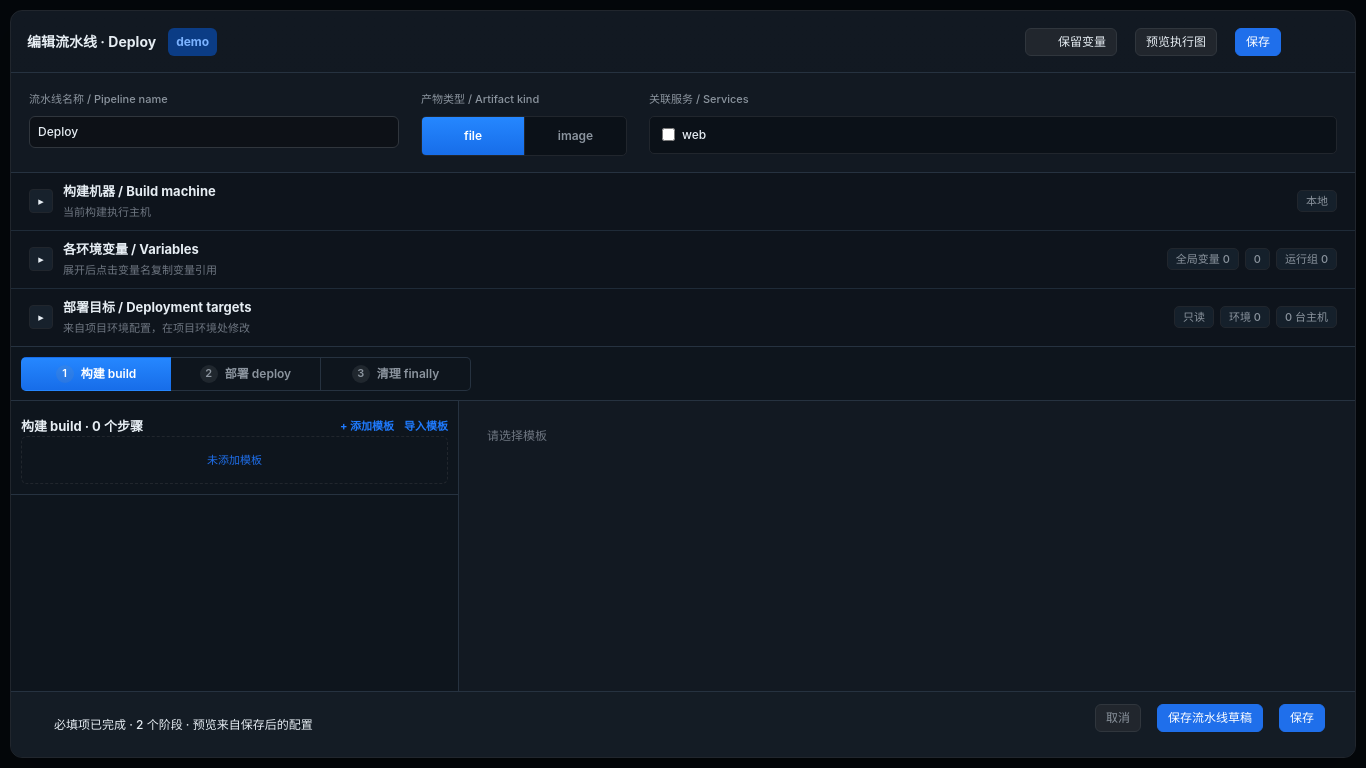
Test: ProjectPipelineEditor › 从流水线编辑器导入模板后追加到当前阶段
Step 1. Click the button with test id "import-template-build" → (426, 426), box [404,421,448,432]
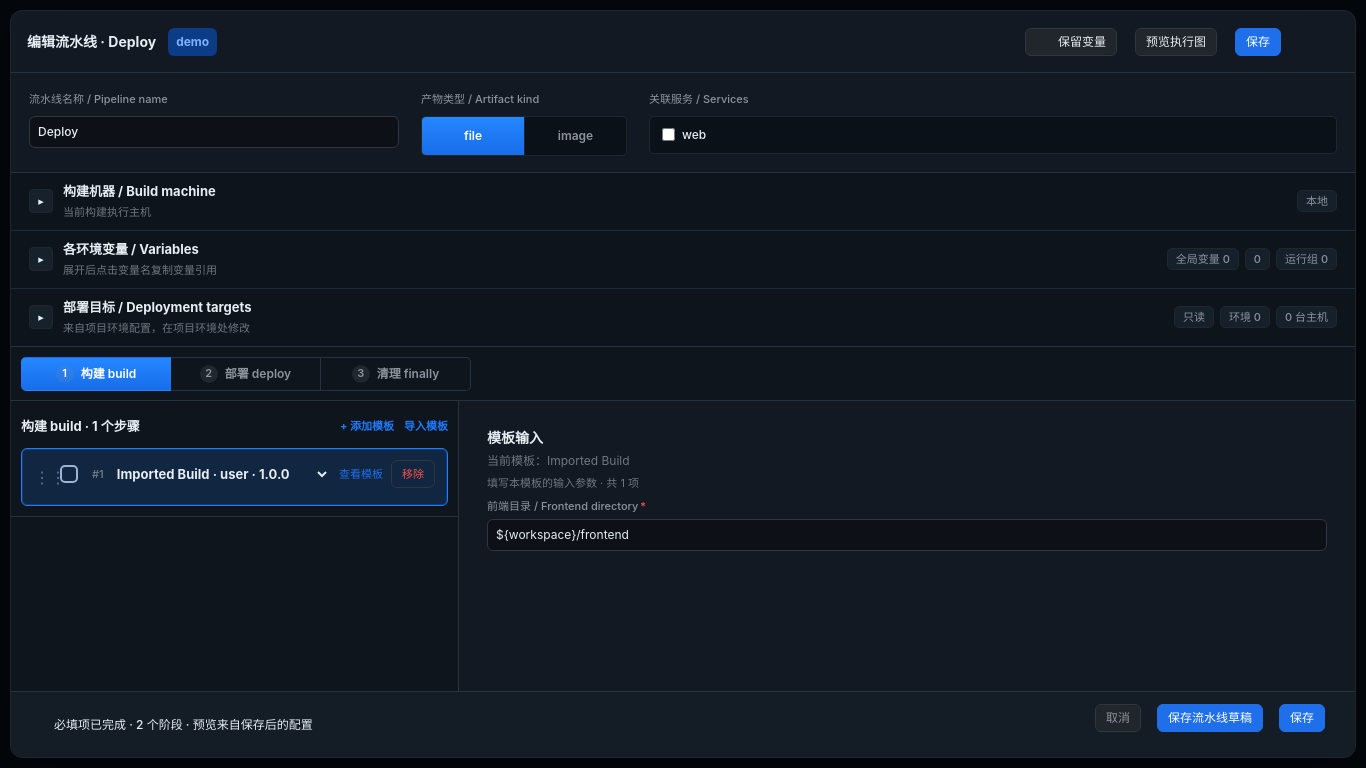
Expected: the dropdown with test id "block-0-template-select" shows "Imported Build · user · 1.0.0", [112,459,331,489]
Expected: the element with test id "pipeline-wizard-detail" shows "当前模板：Imported Build", [487,452,630,468]
